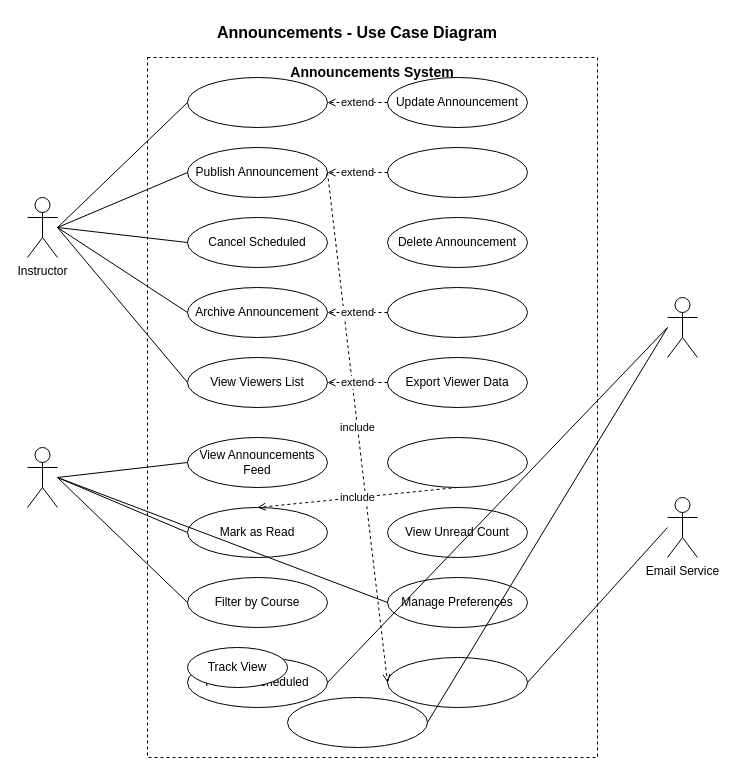
This 736x775 diagram has some shape labels left out. The shapes that lost their labels are listed below. From the top down, each one's centre as x and y in pixels, then its label:
At (x=257, y=102): "Create Announcement".
At (x=457, y=172): "Schedule Announcement".
At (x=457, y=312): "View Engagement Metrics".
At (x=682, y=327): "System".
At (x=42, y=477): "Student".
At (x=457, y=462): "Read Announcement".
At (x=457, y=682): "Deliver via Email".
At (x=357, y=722): "Deliver via Push".
